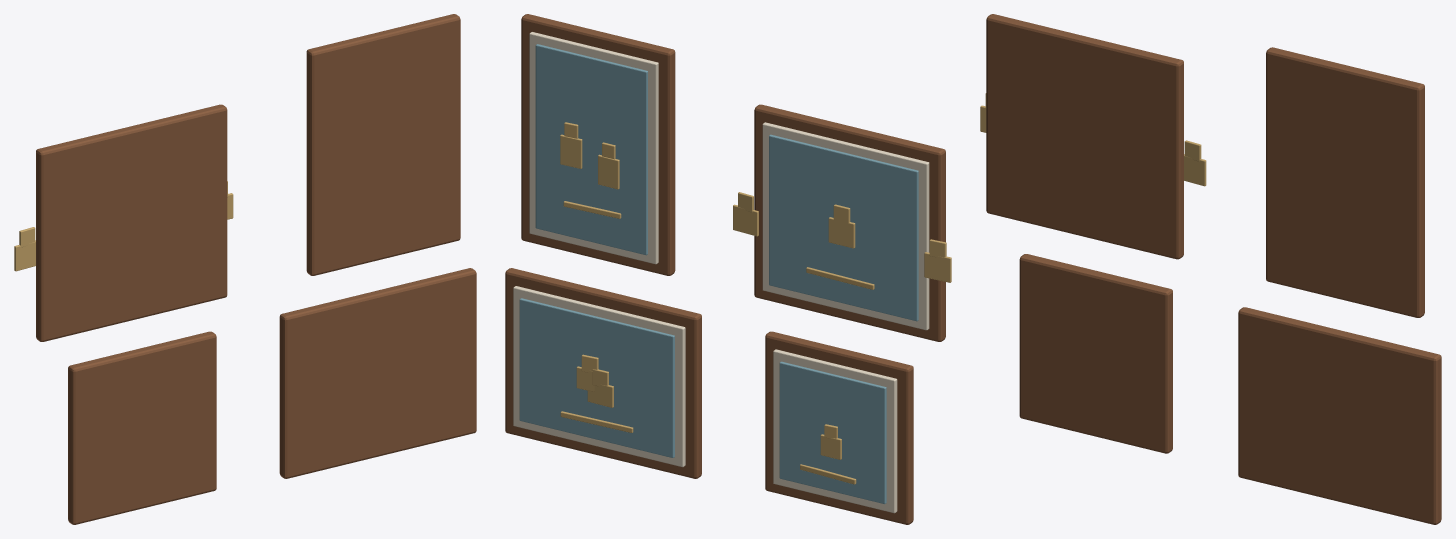
The model's file is gallery_east.glb.
3 renders of one model, left to right at view 1: azimuth 30°, elevation 25°; view 2: azimuth 150°, elevation 25°; view 3: azimuth 330°, elevation 25°, orthographic. The views are drawn at different scales.
Parts seen in each view (by area): view 1: hall_gallery_east_001_portrait_6_back, hall_gallery_east_011_portrait_7_back, hall_gallery_east_025_portrait_9_back, hall_gallery_east_019_portrait_8_back, hall_gallery_east_005_portrait_6_figure_shoulder_0; view 2: hall_gallery_east_003_portrait_6_image, hall_gallery_east_013_portrait_7_image, hall_gallery_east_027_portrait_9_image, hall_gallery_east_021_portrait_8_image, hall_gallery_east_011_portrait_7_back, hall_gallery_east_025_portrait_9_back, hall_gallery_east_001_portrait_6_back, hall_gallery_east_019_portrait_8_back, hall_gallery_east_002_portrait_6_mat, hall_gallery_east_012_portrait_7_mat, hall_gallery_east_026_portrait_9_mat, hall_gallery_east_020_portrait_8_mat (+5 smaller); view 3: hall_gallery_east_001_portrait_6_back, hall_gallery_east_011_portrait_7_back, hall_gallery_east_025_portrait_9_back, hall_gallery_east_019_portrait_8_back, hall_gallery_east_009_portrait_6_figure_shoulder_2.
Boxes of the visible parts, left/top/right/bottom form: hall_gallery_east_001_portrait_6_back: left=36, top=104, right=227, bottom=341; hall_gallery_east_011_portrait_7_back: left=306, top=14, right=460, bottom=275; hall_gallery_east_025_portrait_9_back: left=279, top=268, right=476, bottom=478; hall_gallery_east_019_portrait_8_back: left=68, top=331, right=216, bottom=524; hall_gallery_east_005_portrait_6_figure_shoulder_0: left=14, top=240, right=35, bottom=271; hall_gallery_east_003_portrait_6_image: left=769, top=134, right=918, bottom=321; hall_gallery_east_013_portrait_7_image: left=535, top=44, right=647, bottom=255; hall_gallery_east_027_portrait_9_image: left=519, top=298, right=674, bottom=457; hall_gallery_east_021_portrait_8_image: left=779, top=361, right=886, bottom=504; hall_gallery_east_011_portrait_7_back: left=521, top=14, right=675, bottom=275; hall_gallery_east_025_portrait_9_back: left=505, top=268, right=701, bottom=478; hall_gallery_east_001_portrait_6_back: left=754, top=104, right=945, bottom=341; hall_gallery_east_019_portrait_8_back: left=765, top=331, right=913, bottom=524; hall_gallery_east_002_portrait_6_mat: left=762, top=122, right=929, bottom=330; hall_gallery_east_012_portrait_7_mat: left=529, top=32, right=658, bottom=264; hall_gallery_east_026_portrait_9_mat: left=513, top=286, right=685, bottom=467; hall_gallery_east_020_portrait_8_mat: left=773, top=349, right=897, bottom=513; hall_gallery_east_001_portrait_6_back: left=986, top=14, right=1183, bottom=259; hall_gallery_east_011_portrait_7_back: left=1266, top=47, right=1424, bottom=317; hall_gallery_east_025_portrait_9_back: left=1238, top=307, right=1441, bottom=524; hall_gallery_east_019_portrait_8_back: left=1019, top=254, right=1172, bottom=453; hall_gallery_east_009_portrait_6_figure_shoulder_2: left=1184, top=154, right=1206, bottom=186.
Size of the model in its own units: 1.69 by 1.5 by 0.0838.
